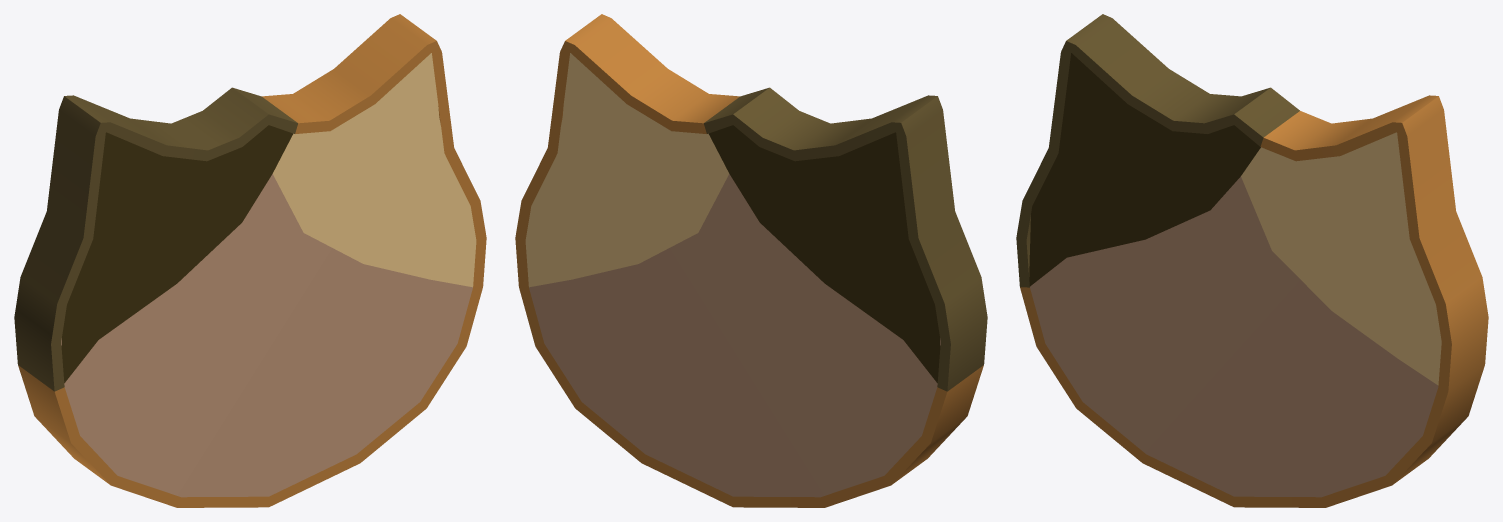
The model's file is toast_cat.fbx.
3 renders of one model, left to right at view 1: azimuth 30°, elevation 25°; view 2: azimuth 150°, elevation 25°; view 3: azimuth 330°, elevation 25°, orthographic.
Parts seen in each view (by area): view 1: Inside, Outside; view 2: Inside, Outside; view 3: Inside, Outside.
Boxes of the visible parts, bbox=[...] form: Inside: bbox=[61, 53, 476, 497]; Outside: bbox=[14, 14, 486, 507]; Inside: bbox=[525, 53, 940, 497]; Outside: bbox=[515, 14, 987, 507]; Inside: bbox=[1029, 53, 1441, 497]; Outside: bbox=[1016, 14, 1488, 507].
Size of the model in its own units: 93.79 by 87.54 by 13.71.
